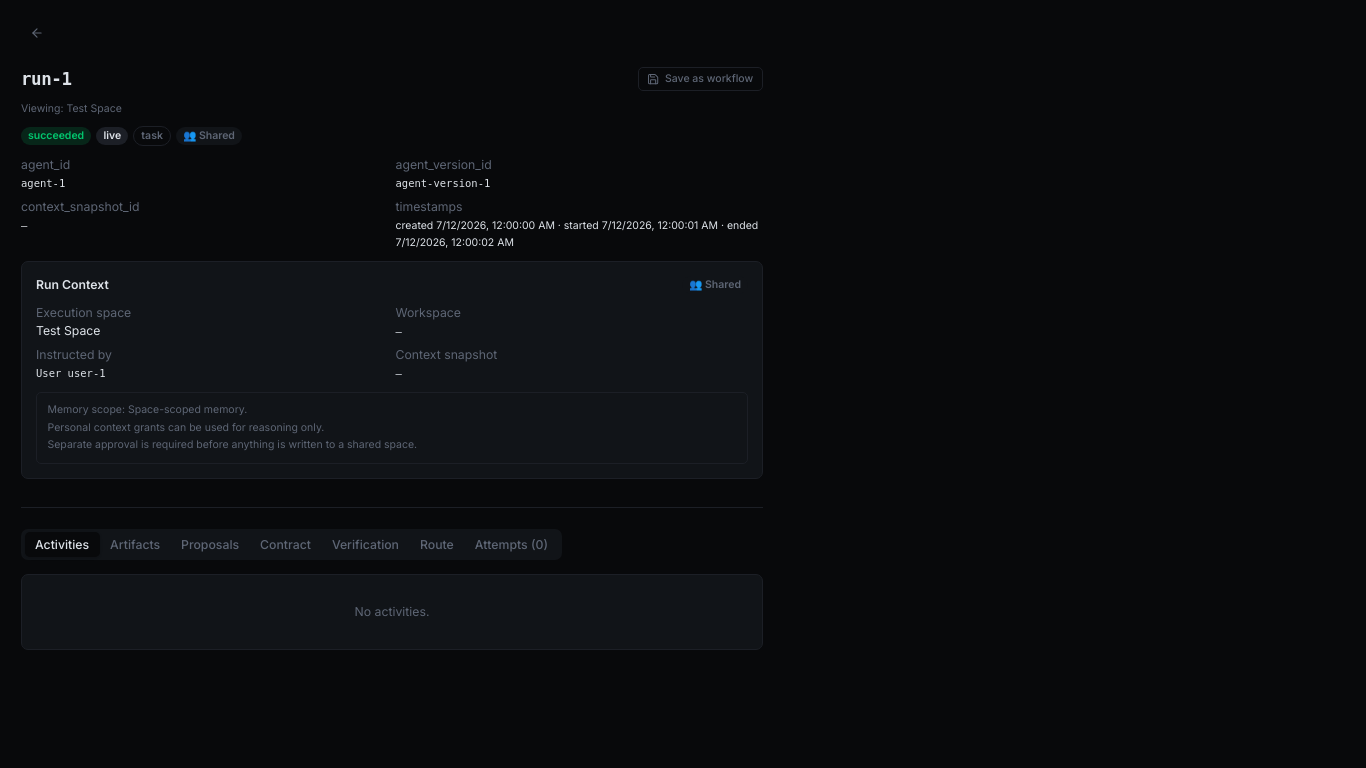
Test: RunDetailPage route decision panel › invalidates a workflow preview when its inputs change
The width and height of the screenshot is (1366, 768).
Click the button "Save as workflow" at {"x": 700, "y": 79}, box [638, 66, 763, 91]
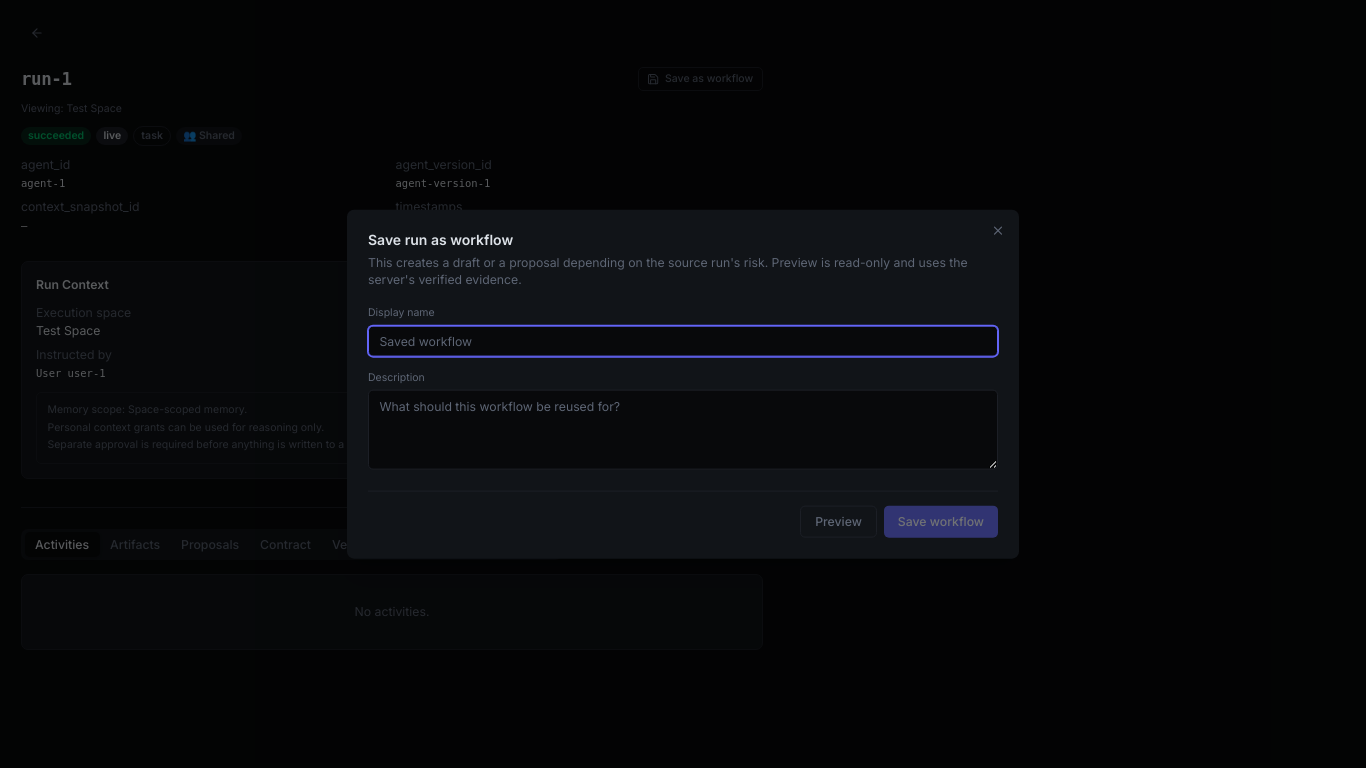
Type "Original" into the field with placeholder "Saved workflow" at {"x": 683, "y": 341}, box [368, 325, 998, 357]
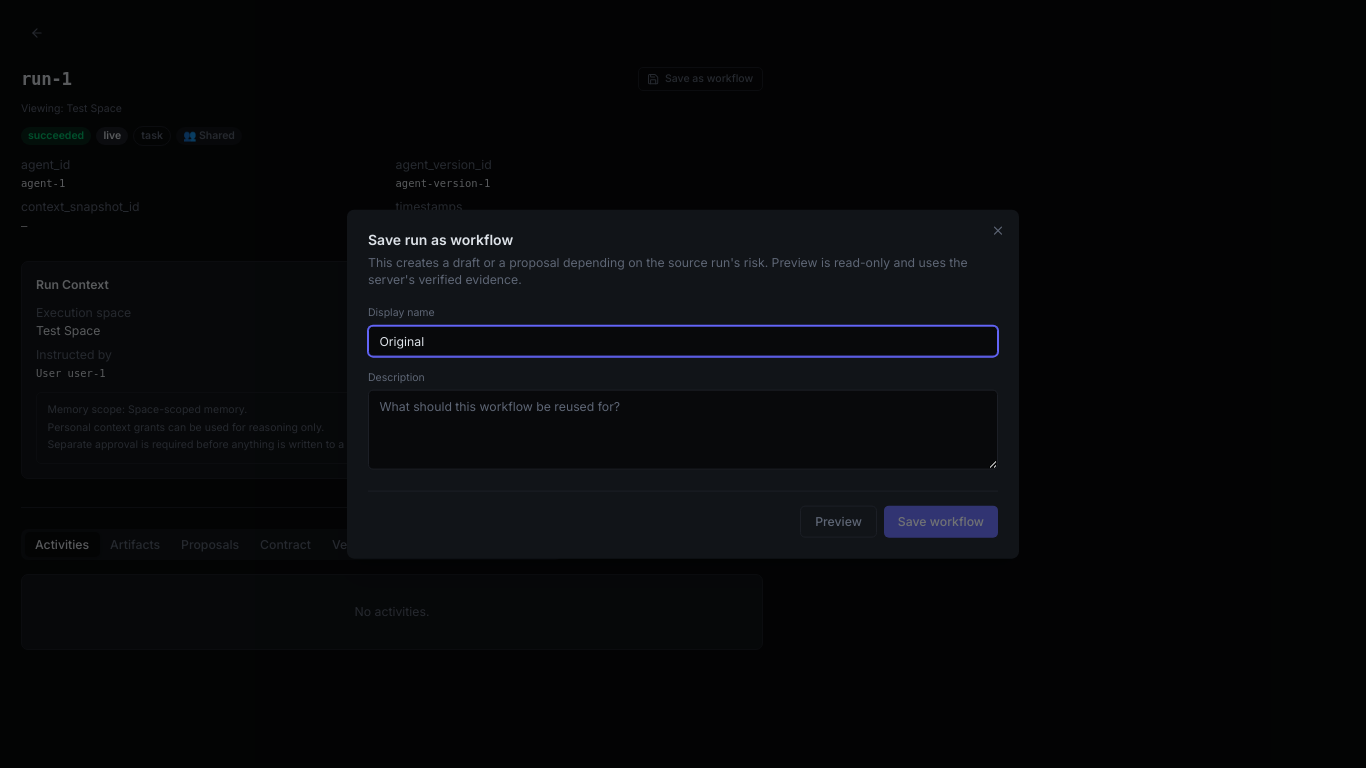
Click the button "Preview" at {"x": 838, "y": 522}, box [800, 506, 877, 537]
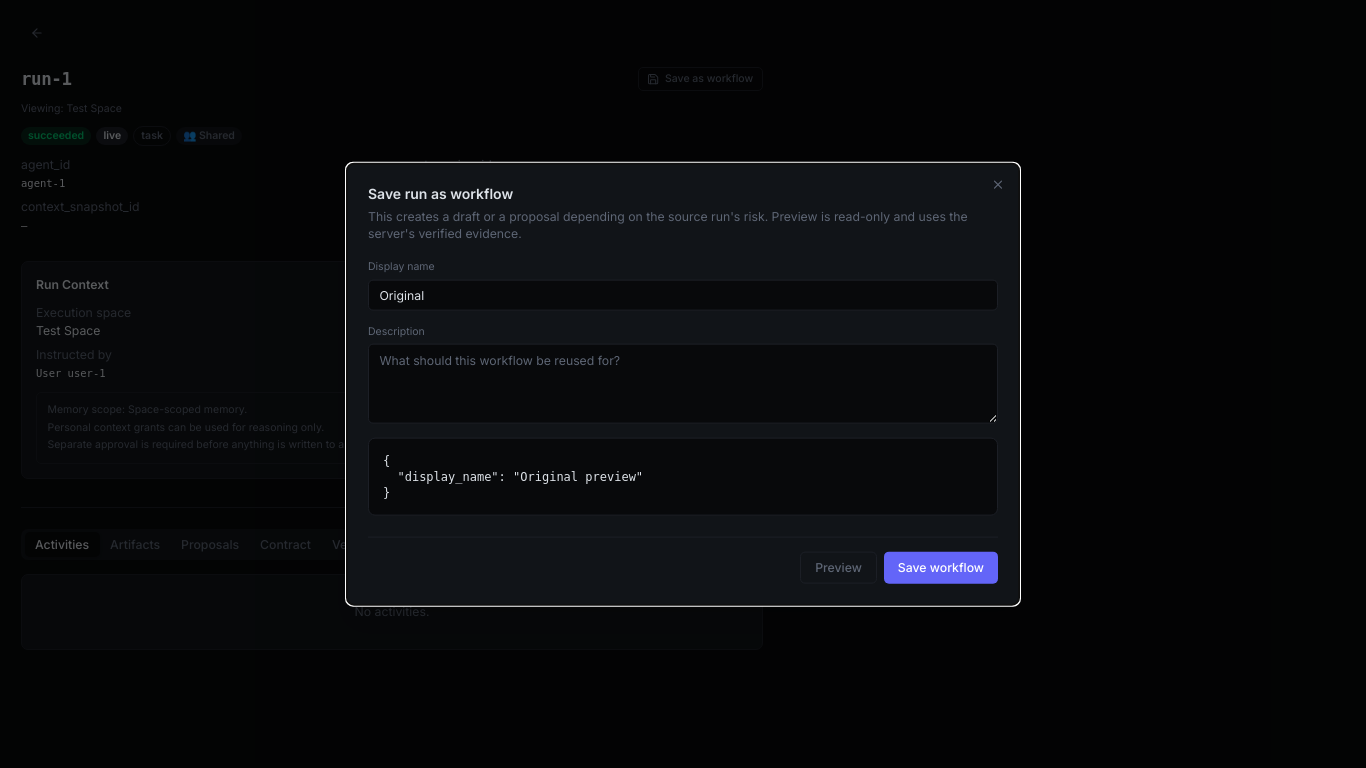
Now the text "{ \"display_name\": \"Original preview\" }" is shown, box [368, 438, 998, 516]
Type " changed" into the field with placeholder "Saved workflow" at {"x": 683, "y": 295}, box [368, 279, 998, 311]
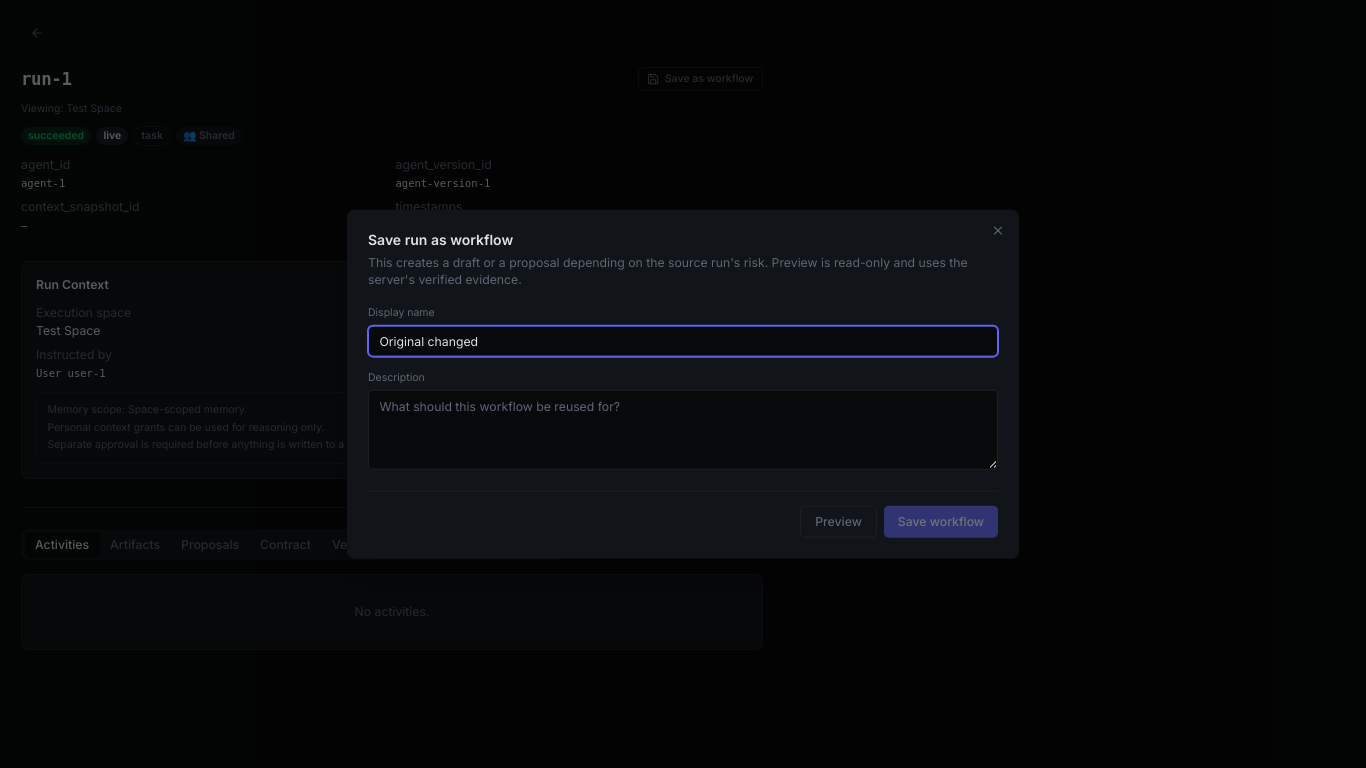
Now the text "Original preview" is gone
Now the button "Save workflow" is disabled, box [884, 506, 998, 537]
